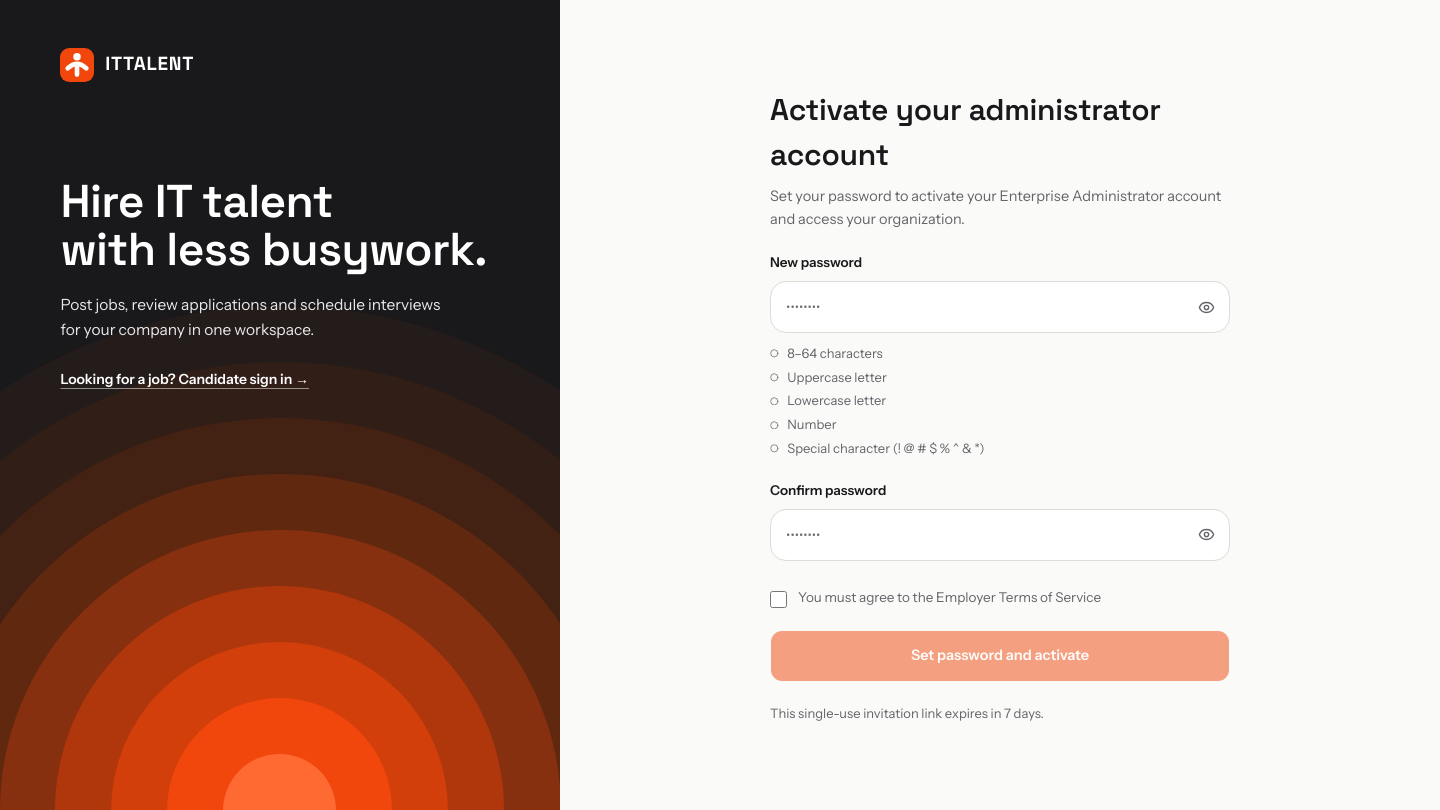
Test: AcceptRegistrationInvitationPage › submits activation successfully and shows success state
Type "Str0ng!Passw0rd" into the password field labelled "New password".
click(1000, 307); type("Str0ng!Passw0rd")  # box x1=770 y1=281 x2=1230 y2=333
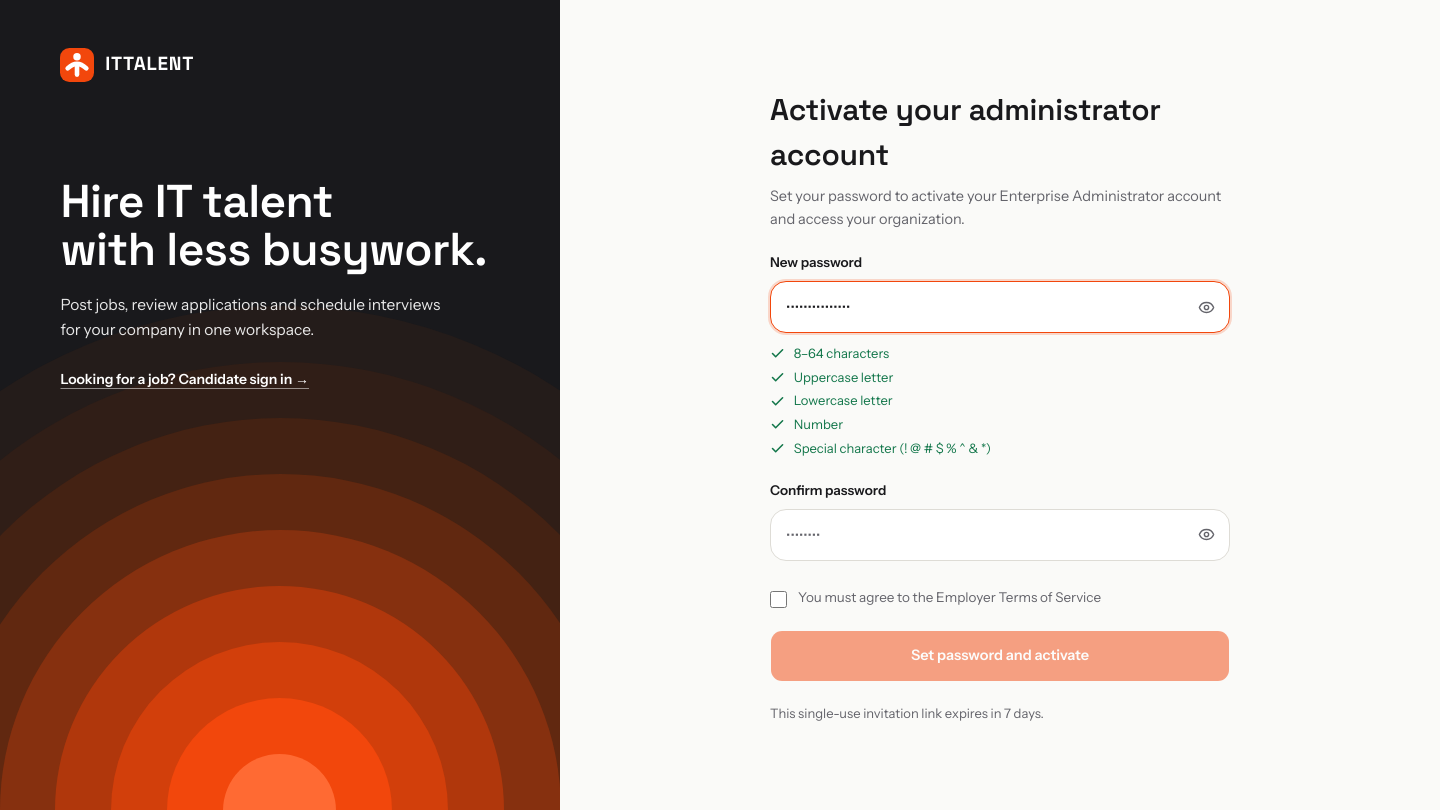
Type "Str0ng!Passw0rd" into the password field labelled "Confirm password".
click(1000, 535); type("Str0ng!Passw0rd")  # box x1=770 y1=509 x2=1230 y2=561
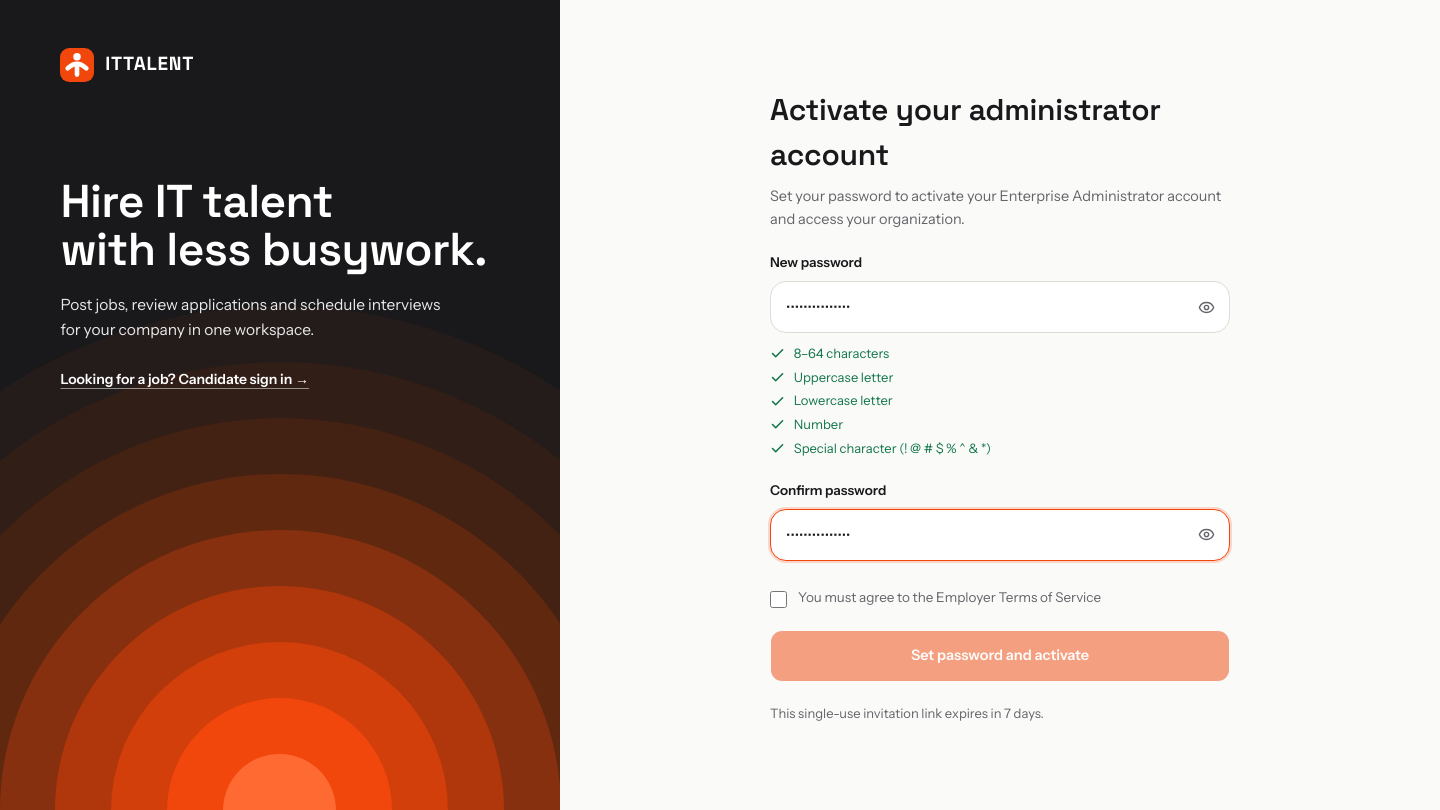
Click the checkbox labelled "You must agree to the Employer Terms of Service".
click(779, 600)  # box x1=770 y1=591 x2=787 y2=608
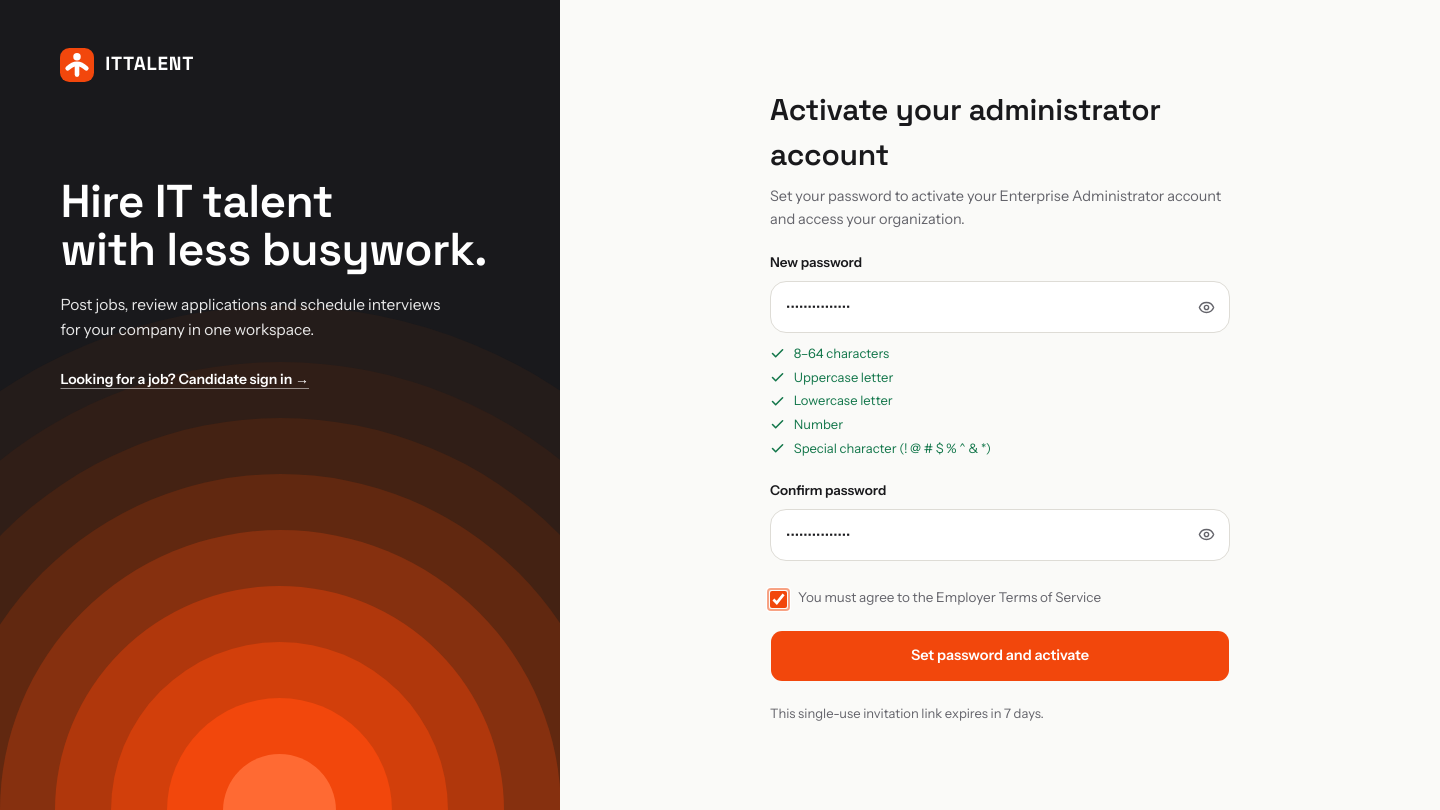
Expected: the button "Set password and activate" is enabled
Click the button "Set password and activate".
click(1000, 656)  # box x1=770 y1=630 x2=1230 y2=682
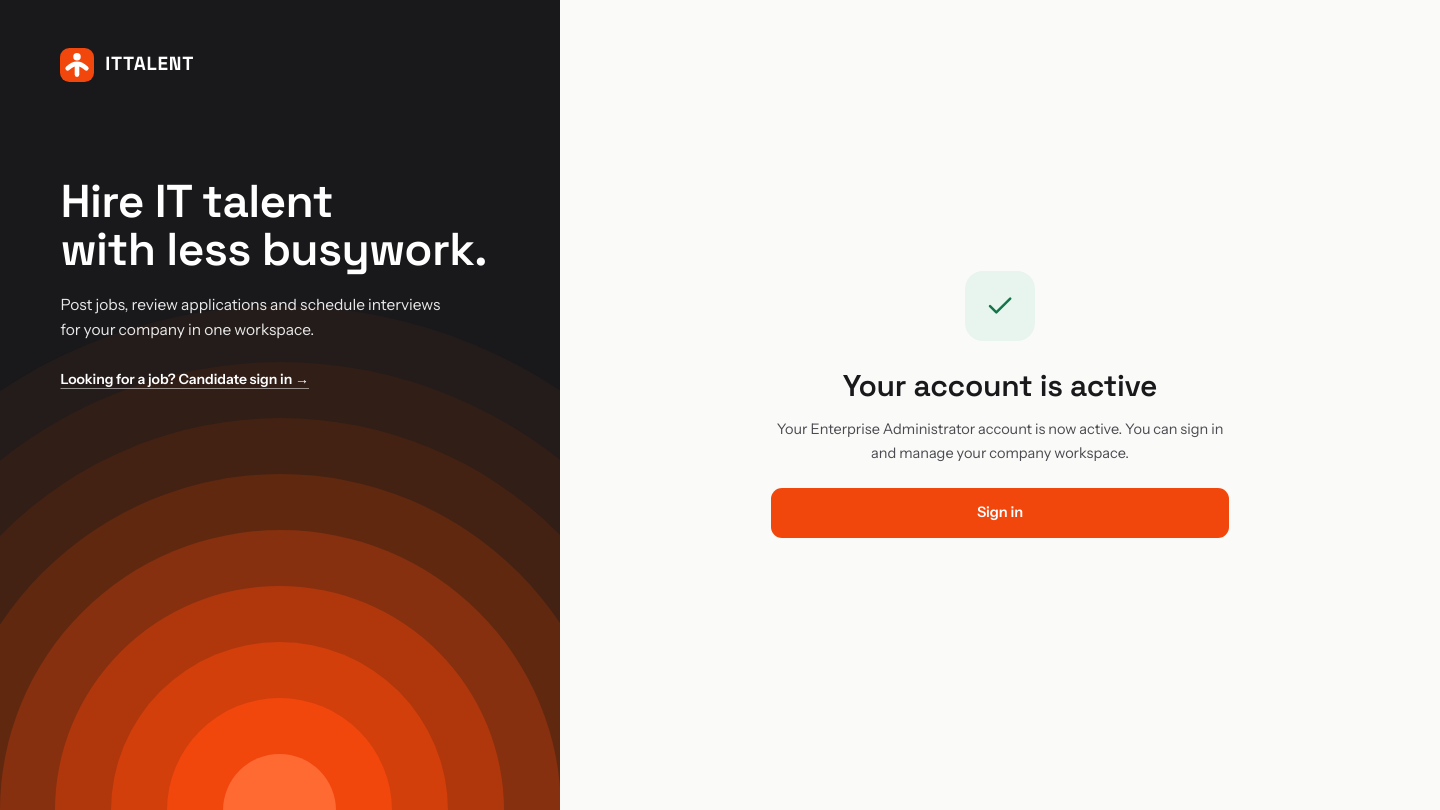
Expected: the text "Your Enterprise Administrator account is now active" is shown, x1=777 y1=420 x2=1223 y2=462
Expected: the link "Sign in" is shown, x1=770 y1=487 x2=1230 y2=538
